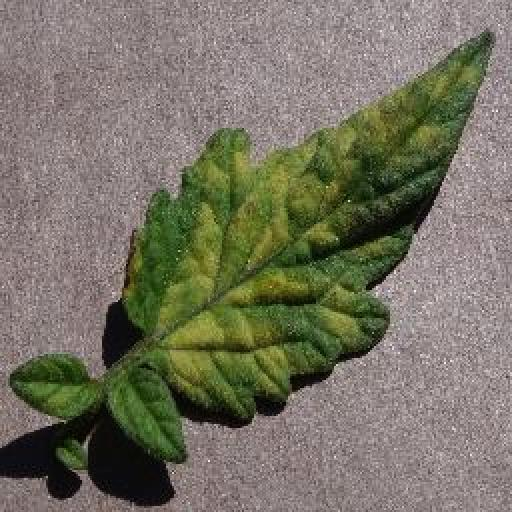disease_tomato: (122, 30, 495, 420)
